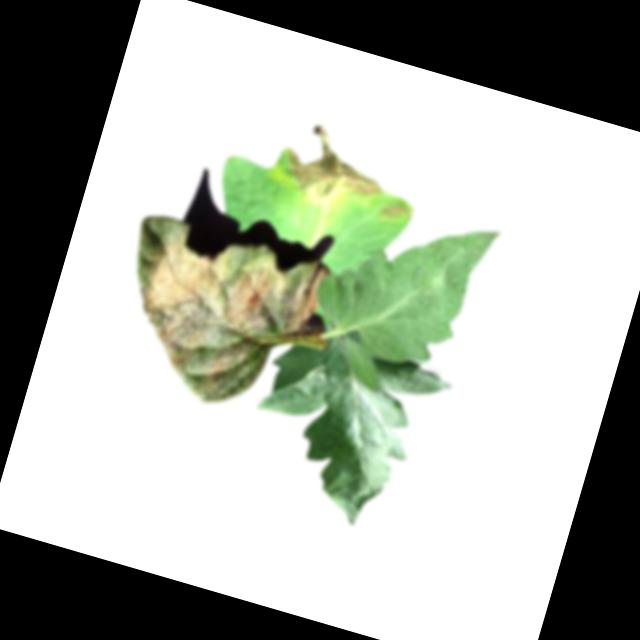Late_blight: (96, 208, 330, 427), (274, 117, 394, 217), (379, 195, 416, 224)
healthy: (231, 327, 456, 543), (302, 186, 500, 381)
